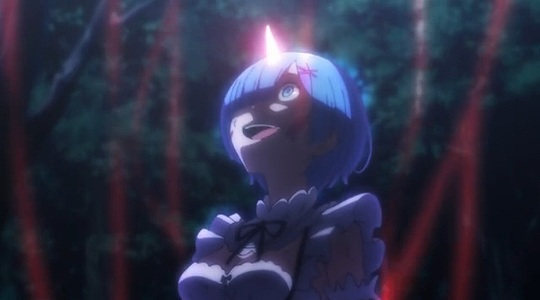rem: (177, 24, 387, 300)
